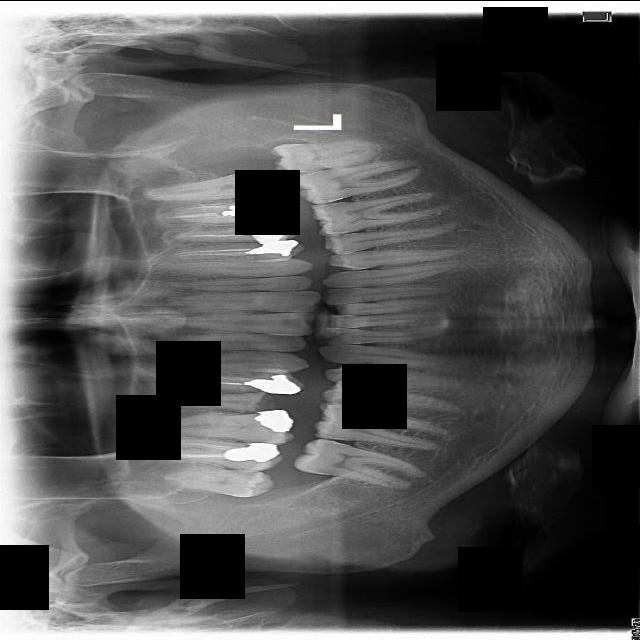71: (235, 229, 256, 235)
74: (164, 439, 238, 449), (183, 372, 254, 381), (156, 449, 226, 458), (155, 211, 225, 218), (178, 247, 252, 253), (186, 379, 243, 385), (192, 232, 246, 238), (176, 203, 228, 209), (177, 251, 249, 255)
NucleOSS Implant: (218, 191, 291, 229), (223, 439, 280, 468), (243, 373, 303, 393), (253, 407, 293, 433), (244, 238, 299, 256), (247, 178, 274, 197)
Sterngold Implant: (245, 392, 278, 412), (226, 469, 260, 480), (329, 394, 355, 404), (320, 435, 339, 448), (326, 210, 340, 227), (323, 201, 345, 210), (319, 431, 341, 440), (329, 225, 353, 233), (333, 403, 354, 411), (331, 232, 349, 241), (316, 197, 335, 205), (232, 170, 248, 177)
Zimmer Implant: (254, 220, 301, 243)
